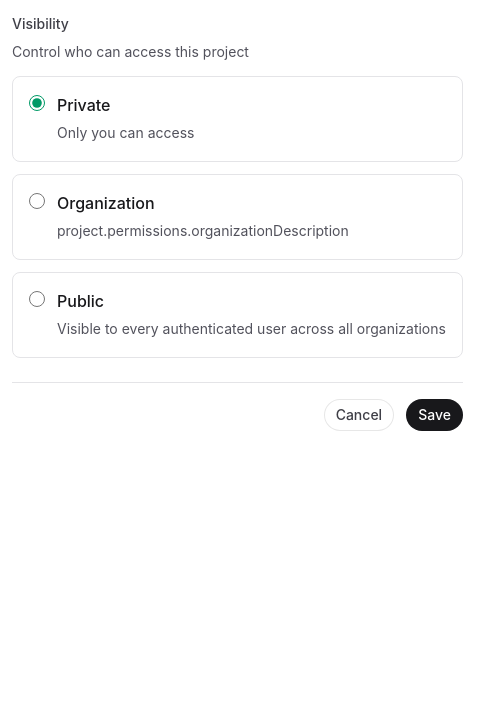
Test: ProjectPermissionsPanel › Visibility switching › switching to public reveals the role sub-radio
Expected: the radio button with test id "private-radio" is shown, [29, 95, 45, 111]
Click the label with test id "public-option". click: click(81, 301)
box: [12, 272, 463, 358]
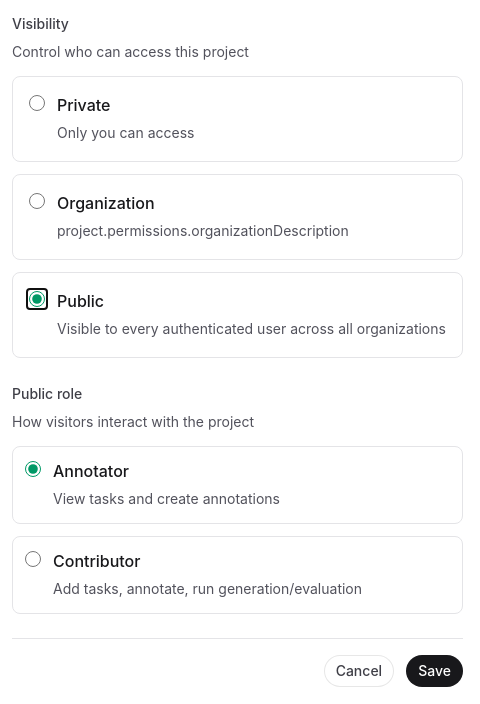
Expected: the element with test id "public-role-section" is shown, [12, 382, 463, 614]
